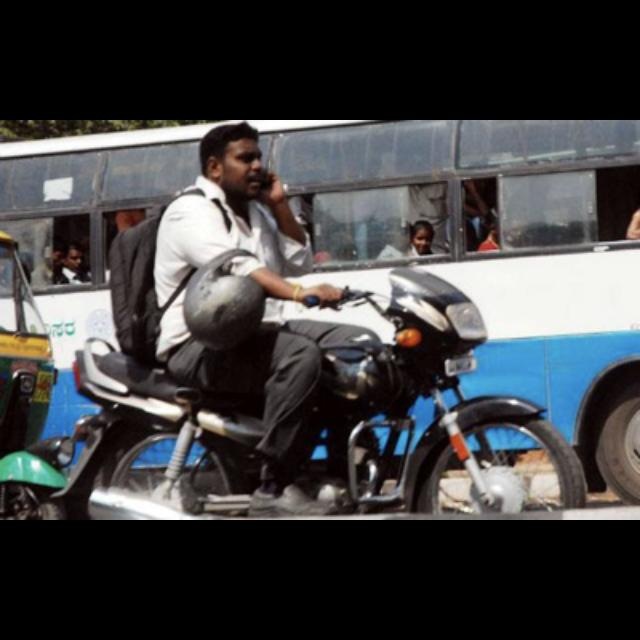Without Helmet: (193, 122, 283, 208)
